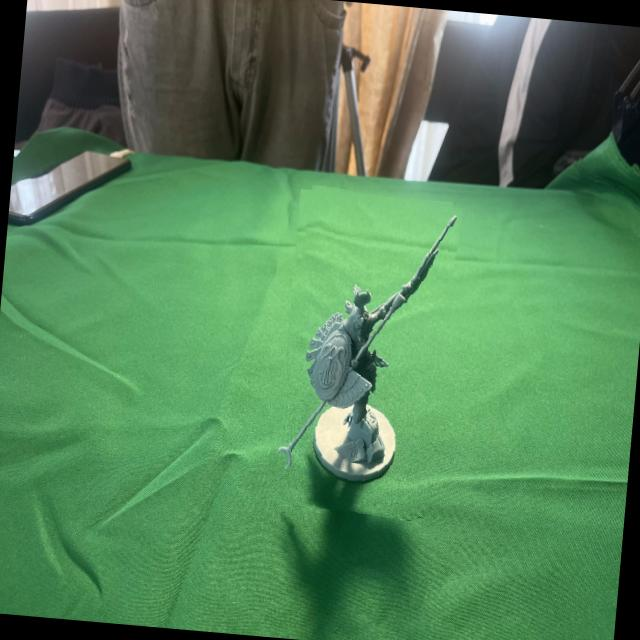isis: (267, 185, 458, 520)
